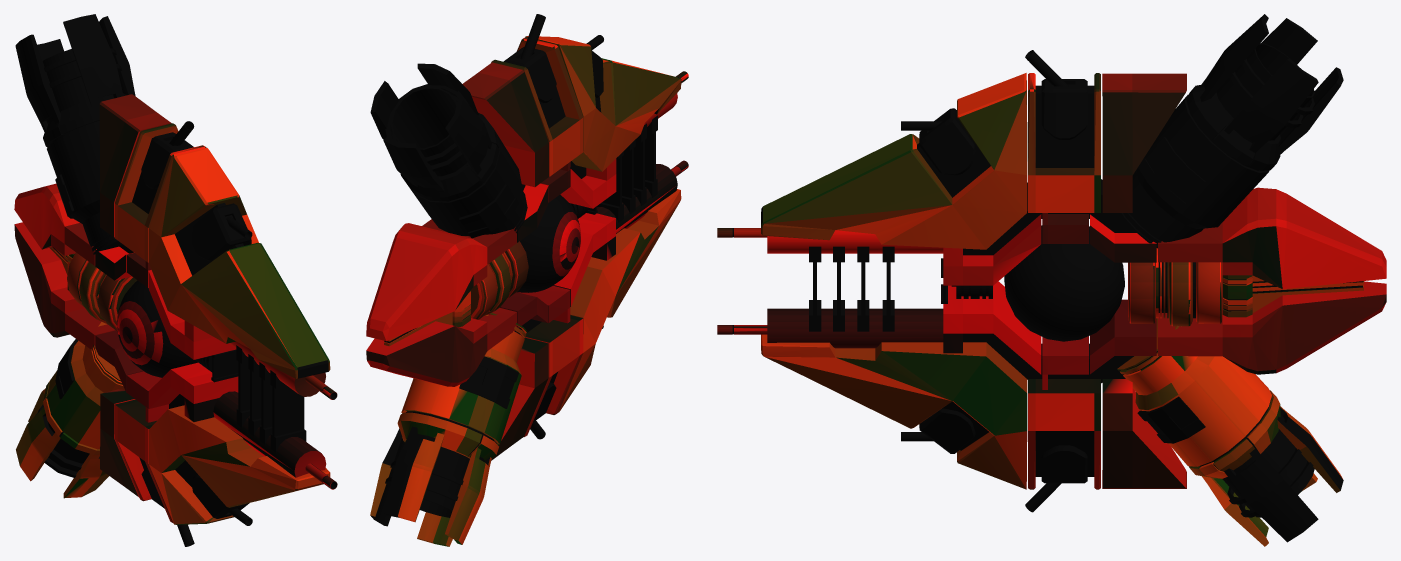
File: big-core-mk1.FBX
3 views of the same model, side by side, from view 1: azimuth 30°, elevation 25°; view 2: azimuth 150°, elevation 25°; view 3: azimuth 270°, elevation 25° (orthographic). The views are drawn at different scales.
Parts seen in each view (by area): view 1: U_Char_2, U_Char_0, U_Char_1; view 2: U_Char_2, U_Char_0, U_Char_1; view 3: U_Char_2, U_Char_0, U_Char_1.
Part boxes in pixels (x1,y1,x2,y2): U_Char_2: [14, 94, 330, 524]; U_Char_0: [15, 14, 337, 546]; U_Char_1: [117, 280, 198, 377]; U_Char_2: [366, 36, 681, 460]; U_Char_0: [370, 14, 688, 546]; U_Char_1: [517, 194, 580, 292]; U_Char_2: [761, 73, 1386, 489]; U_Char_0: [717, 14, 1363, 546]; U_Char_1: [1004, 225, 1124, 341].
Size of the model in its own units: 62.87 by 298 by 347.
